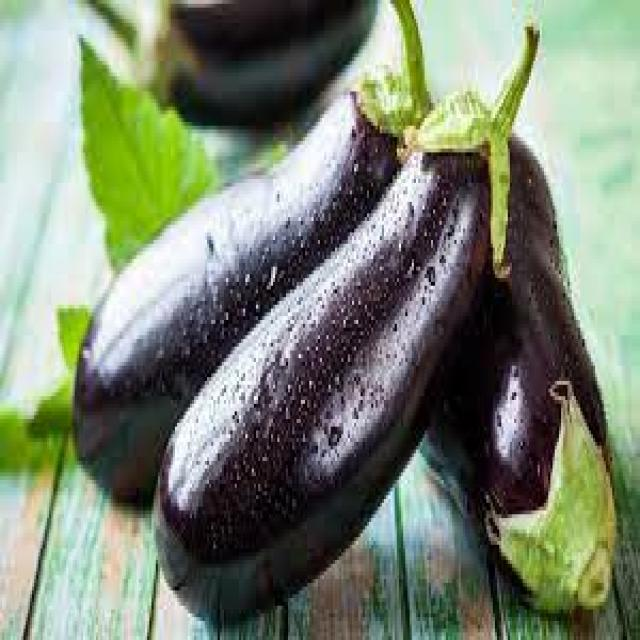eggplant: (154, 99, 501, 625), (73, 72, 416, 503), (418, 118, 606, 575)
